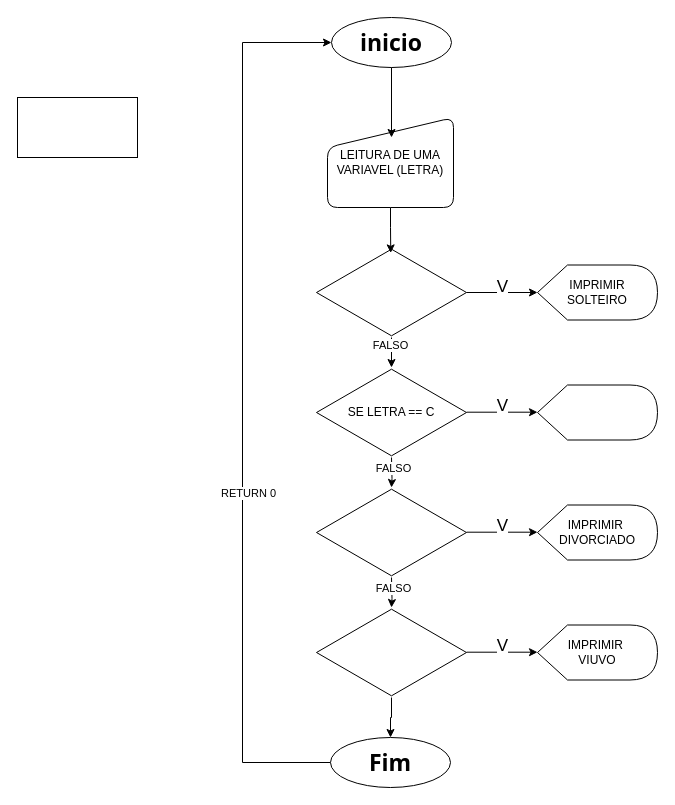
Image size: 675x805. Some labels were removed from this diagram. The shapes that lost their labels are listed below. From the top down, each one's centre as x and y in pixels, then its label:
the point at 391,292: SE LETRA == S
the point at 597,412: IMPRIMIR CASADO
the point at 391,532: SE LETRA == D
the point at 391,652: SE LETRA == V
